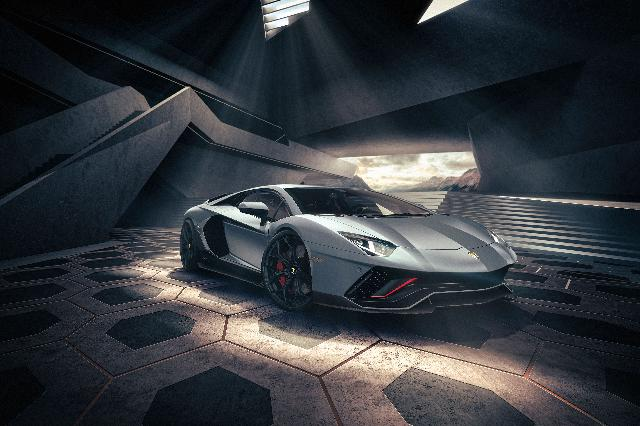lamborghini: (180, 183, 518, 317)
